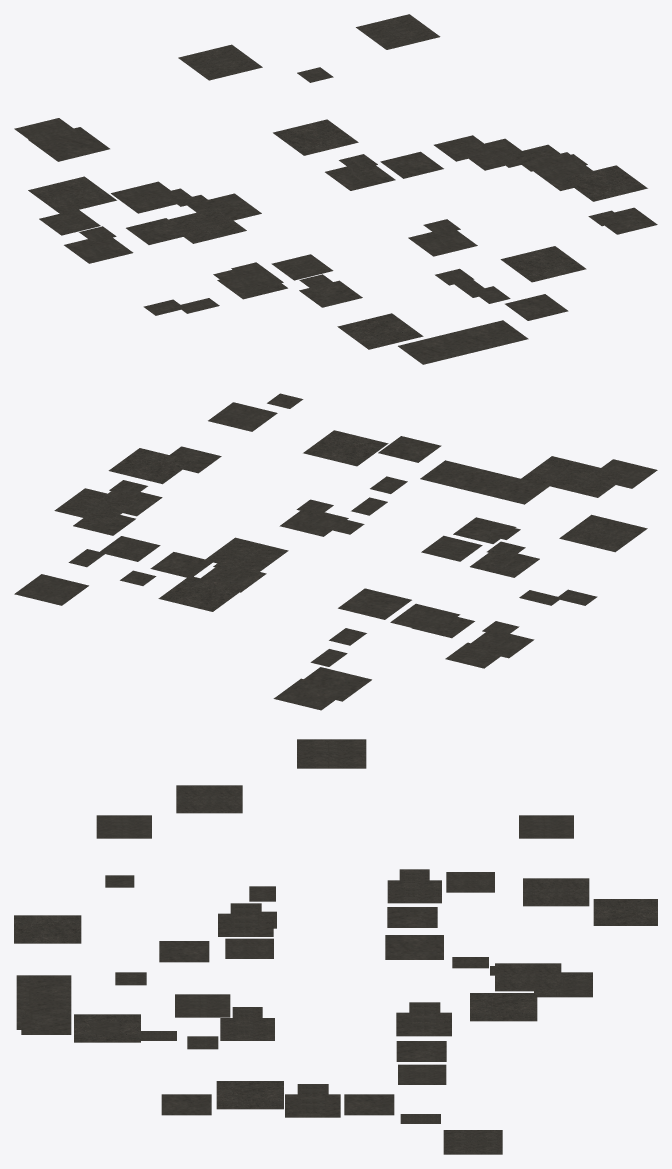
File: Buildings_Roofs.fbx
3 views of the same model, one above another, from view 1: azimuth 30°, elevation 25°; view 2: azimuth 150°, elevation 25°; view 3: azimuth 270°, elevation 25° (orthographic). The views are drawn at different scales.
Visible parts, largest first — view 1: Building_Red, Building_41, Building_07, Building_08, Building_31, Building_34, Building_30, Building_12, Building_39, Building_09, Building_17, Building_04 (+16 smaller); view 2: Building_Red, Building_41, Building_07, Building_34, Building_08, Building_12, Building_30, Building_39, Building_40, Building_27, Building_04, Building_38 (+18 smaller); view 3: Building_Red, Building_41, Building_31, Building_08, Building_34, Building_30, Building_12, Building_39, Building_40, Building_09, Building_27, Building_35 (+18 smaller).
Boxes of the visible parts, x1=… form: Building_Red: x1=398, y1=320, x2=528, y2=364; Building_41: x1=28, y1=176, x2=116, y2=214; Building_07: x1=500, y1=246, x2=586, y2=282; Building_08: x1=273, y1=119, x2=358, y2=155; Building_31: x1=337, y1=313, x2=423, y2=349; Building_34: x1=562, y1=165, x2=647, y2=201; Building_30: x1=162, y1=208, x2=246, y2=243; Building_12: x1=356, y1=14, x2=440, y2=49; Building_39: x1=178, y1=44, x2=262, y2=80; Building_09: x1=325, y1=154, x2=395, y2=190; Building_17: x1=64, y1=226, x2=133, y2=263; Building_04: x1=408, y1=219, x2=477, y2=256; Building_Red: x1=420, y1=460, x2=549, y2=504; Building_41: x1=559, y1=514, x2=647, y2=552; Building_07: x1=303, y1=430, x2=388, y2=466; Building_34: x1=108, y1=448, x2=193, y2=484; Building_08: x1=158, y1=576, x2=243, y2=611; Building_12: x1=54, y1=488, x2=138, y2=523; Building_30: x1=544, y1=462, x2=628, y2=497; Building_39: x1=204, y1=537, x2=288, y2=573; Building_40: x1=291, y1=667, x2=371, y2=701; Building_27: x1=470, y1=541, x2=539, y2=577; Building_04: x1=279, y1=499, x2=348, y2=536; Building_38: x1=14, y1=574, x2=88, y2=605; Building_Red: x1=16, y1=975, x2=71, y2=1029; Building_41: x1=297, y1=739, x2=366, y2=768; Building_31: x1=14, y1=915, x2=81, y2=943; Building_08: x1=470, y1=993, x2=537, y2=1021; Building_34: x1=216, y1=1081, x2=283, y2=1109; Building_30: x1=176, y1=785, x2=242, y2=813; Building_12: x1=495, y1=963, x2=561, y2=991; Building_39: x1=523, y1=878, x2=589, y2=906; Building_40: x1=593, y1=899, x2=657, y2=925; Building_09: x1=396, y1=1002, x2=451, y2=1036; Building_27: x1=218, y1=903, x2=273, y2=936; Building_35: x1=285, y1=1084, x2=340, y2=1117.
Size of the model in its own units: 236 by 52.15 by 225.
